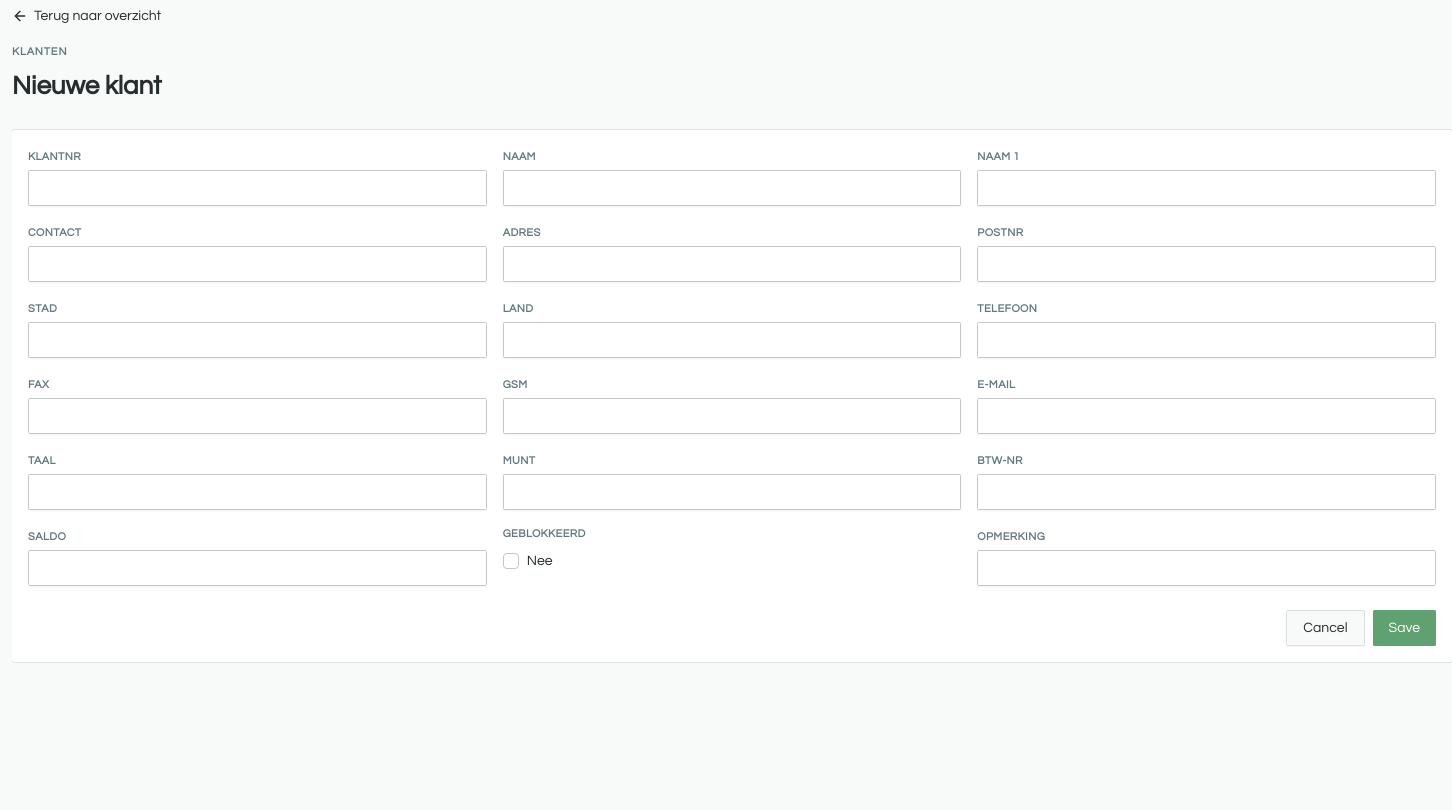
Test: KlantCreatePage › shows the error thrown by the API (e.g. duplicate klnr)
This screenshot has width=1452, height=810.
Type "777" into the number field labelled "Klantnr" at (257, 188), box [28,170,487,206]
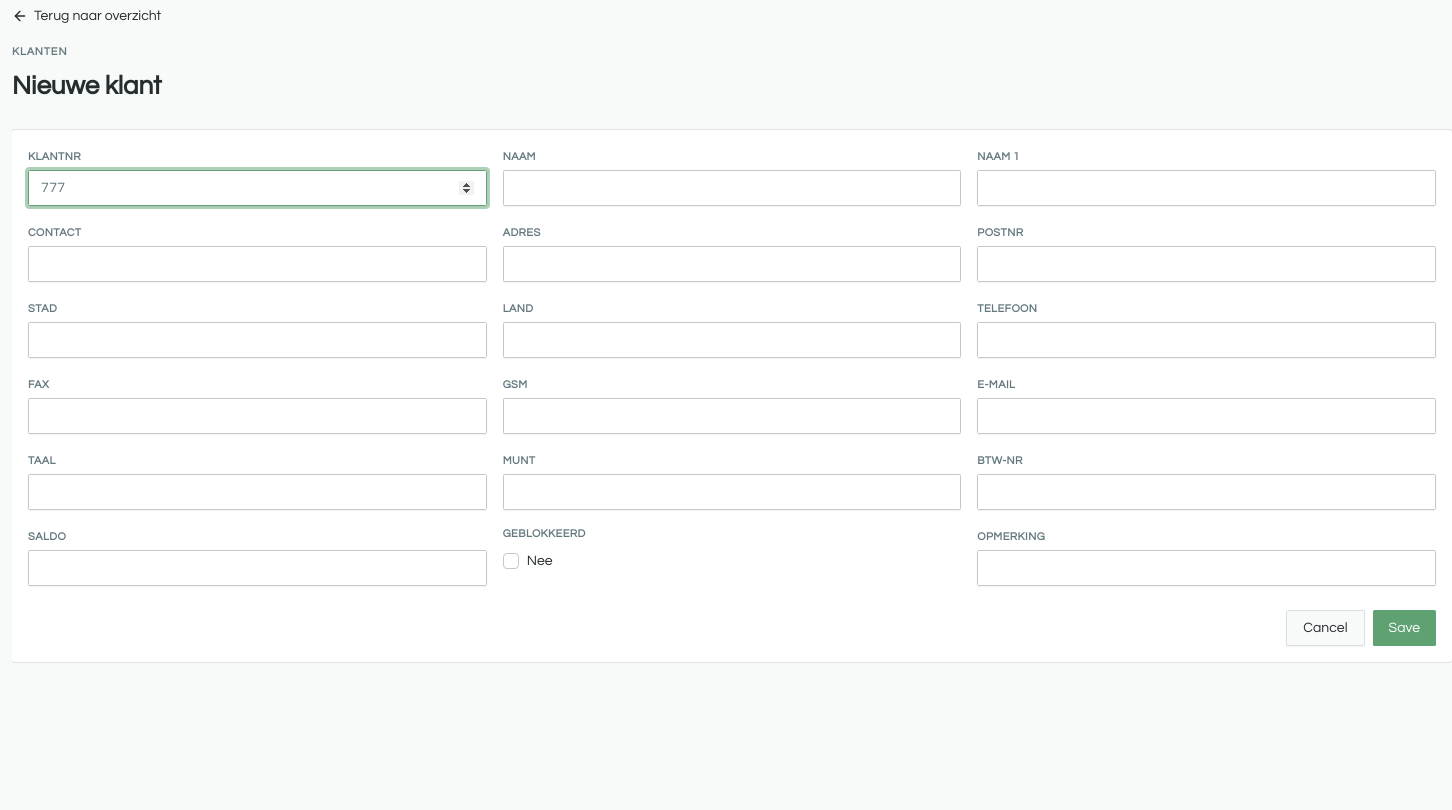
Click the button "Save" at (1404, 628), box [1372,610,1436,646]
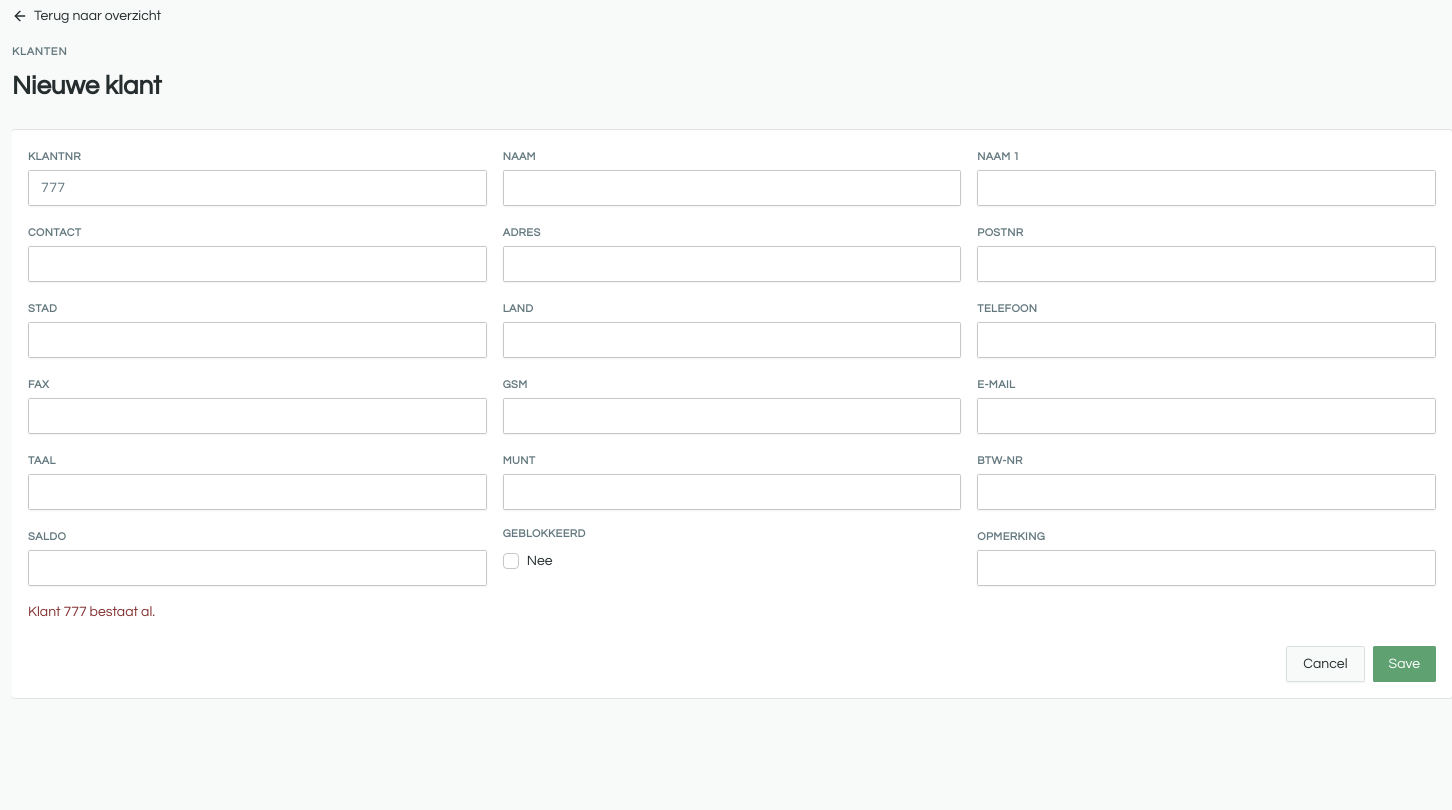
Expected: the text "Klant 777 bestaat al." is shown, [28,604,155,618]
